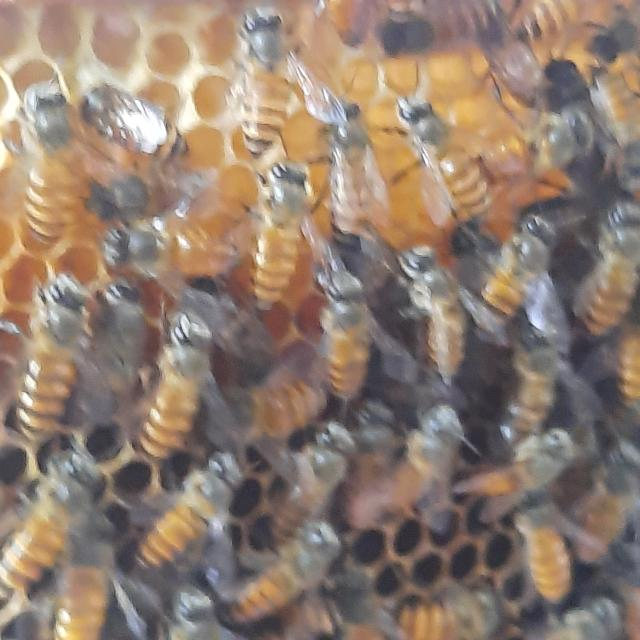honeybee: (0, 71, 86, 263), (56, 496, 166, 640), (133, 297, 225, 456), (2, 272, 92, 432), (331, 242, 413, 402), (484, 470, 606, 576), (383, 103, 485, 229), (210, 13, 308, 139), (167, 438, 276, 550), (409, 229, 507, 344), (107, 214, 231, 302), (4, 434, 68, 601), (383, 424, 485, 528), (387, 560, 516, 640), (90, 88, 186, 188), (567, 186, 640, 308), (302, 408, 376, 522), (323, 86, 381, 224), (524, 77, 612, 167), (520, 577, 640, 640), (257, 188, 323, 302), (368, 9, 468, 79), (507, 317, 575, 417), (483, 233, 567, 312), (222, 564, 374, 594)
